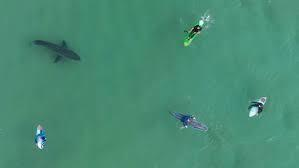swimmer: (30, 35, 82, 65), (166, 108, 212, 136), (181, 18, 207, 49), (247, 93, 269, 120), (31, 126, 49, 150), (180, 113, 196, 131), (186, 24, 203, 40), (249, 99, 264, 116), (33, 133, 47, 146)
